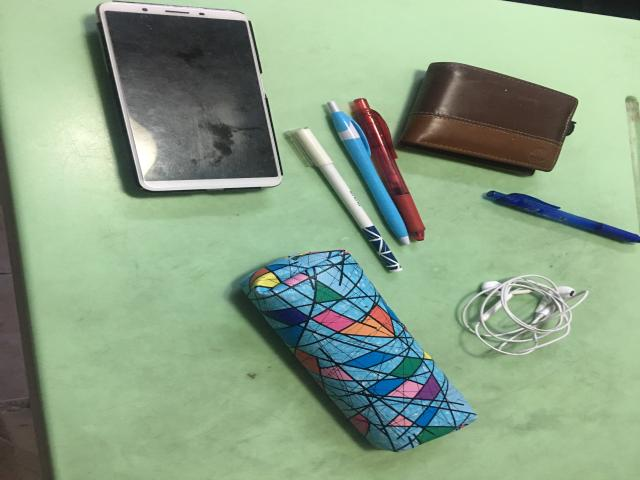Mobile phone: (97, 2, 282, 191)
Pen: (294, 130, 399, 271), (325, 99, 425, 244), (487, 191, 640, 243)
Wallet: (400, 62, 578, 174)
wire: (462, 275, 588, 355)
